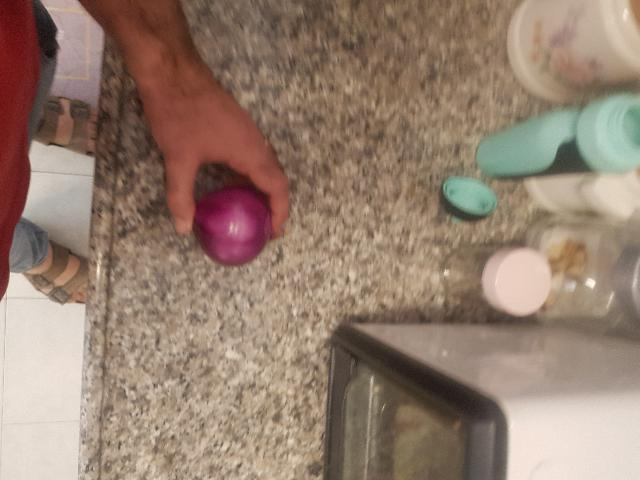onion: (332, 362, 417, 453)
